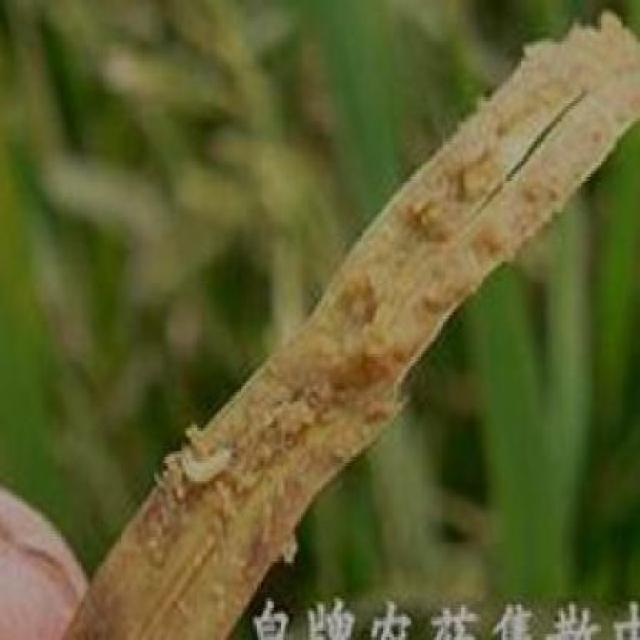whorl-maggot: (178, 442, 251, 490)
